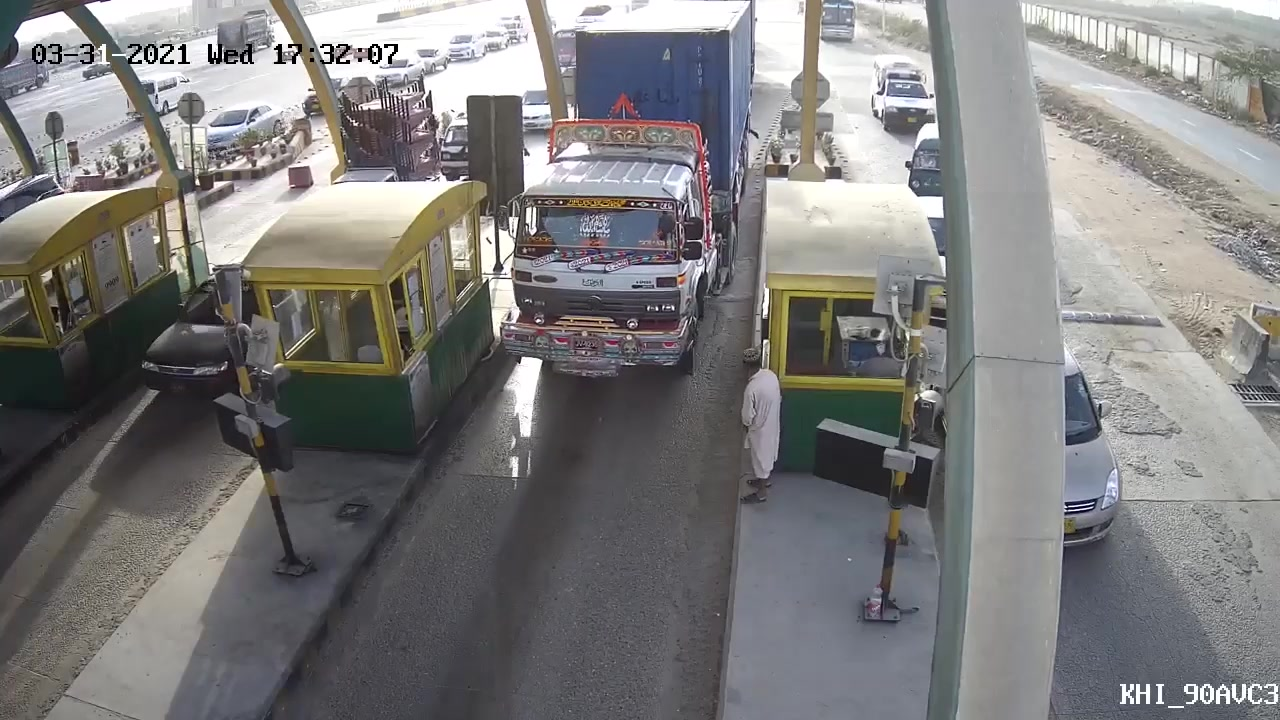F5: (495, 35, 729, 398)
